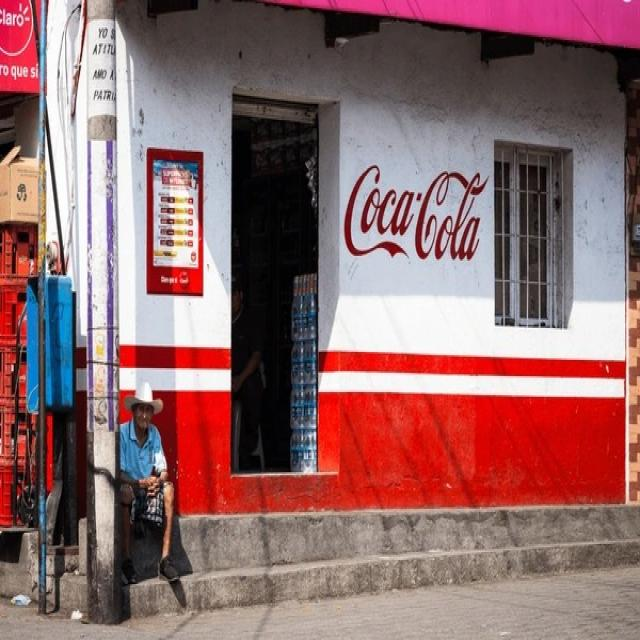coca cola: (338, 162, 496, 269)
